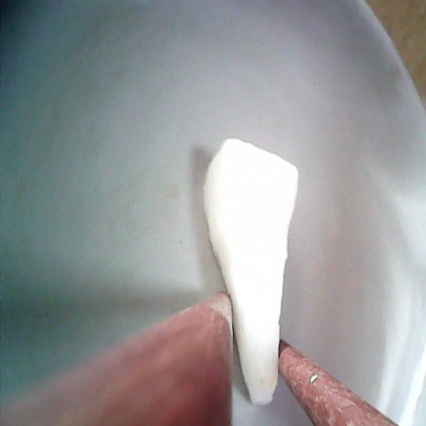white_chinese-yam: (196, 121, 306, 411)
